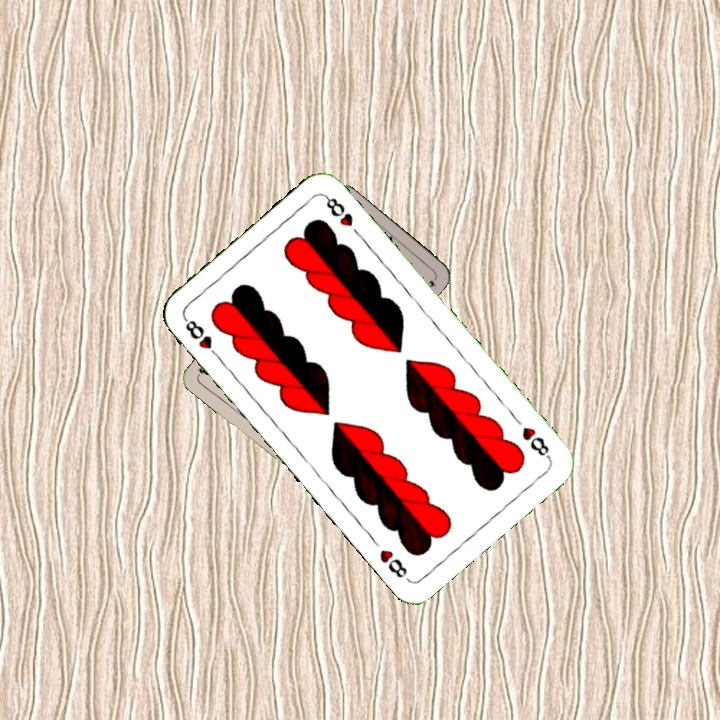H8: (179, 313, 223, 362), (518, 422, 553, 461)
